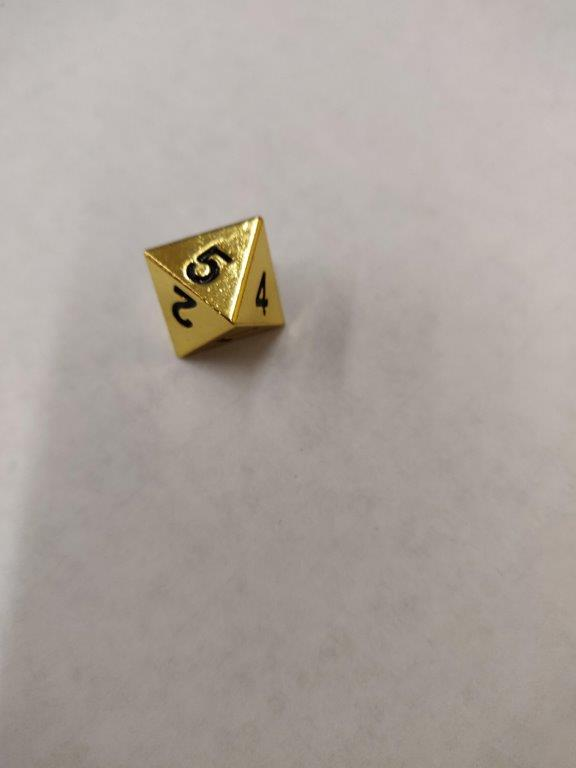d8-5: (141, 213, 288, 366)
